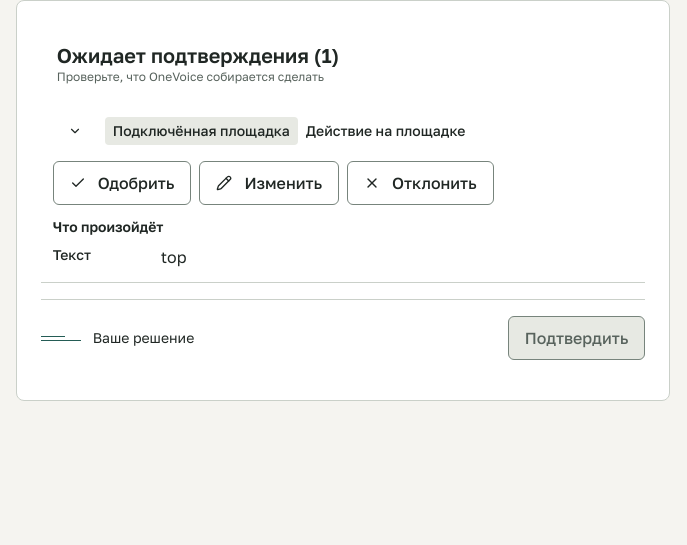
Test case: ToolApprovalCard.edited_args — Invariant 3: only top-level scalar changes are submitted › mounting ToolApprovalCard with a nested-args batch and picking Edit does not mount any nested-editable controls beyond what the whitelist allows
Click the button with aria-label "Изменить Действие на площадке": coordinates (269, 183) 199,161 -> 339,205
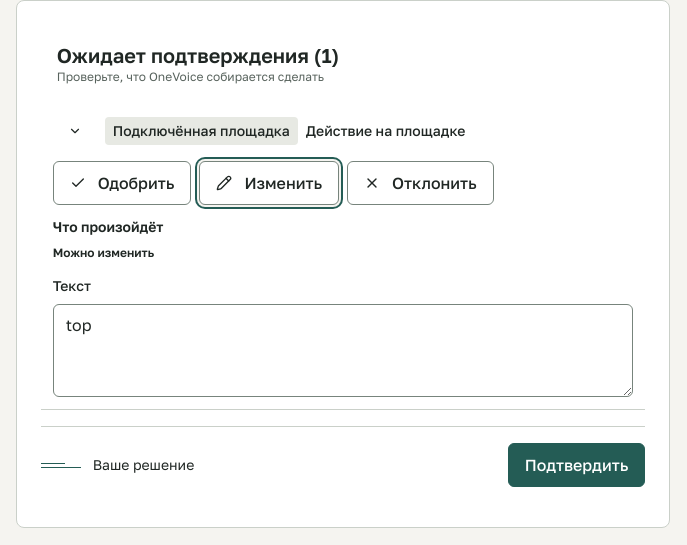
Check: the text box labelled "Текст" is shown, box 53,304 -> 633,397
